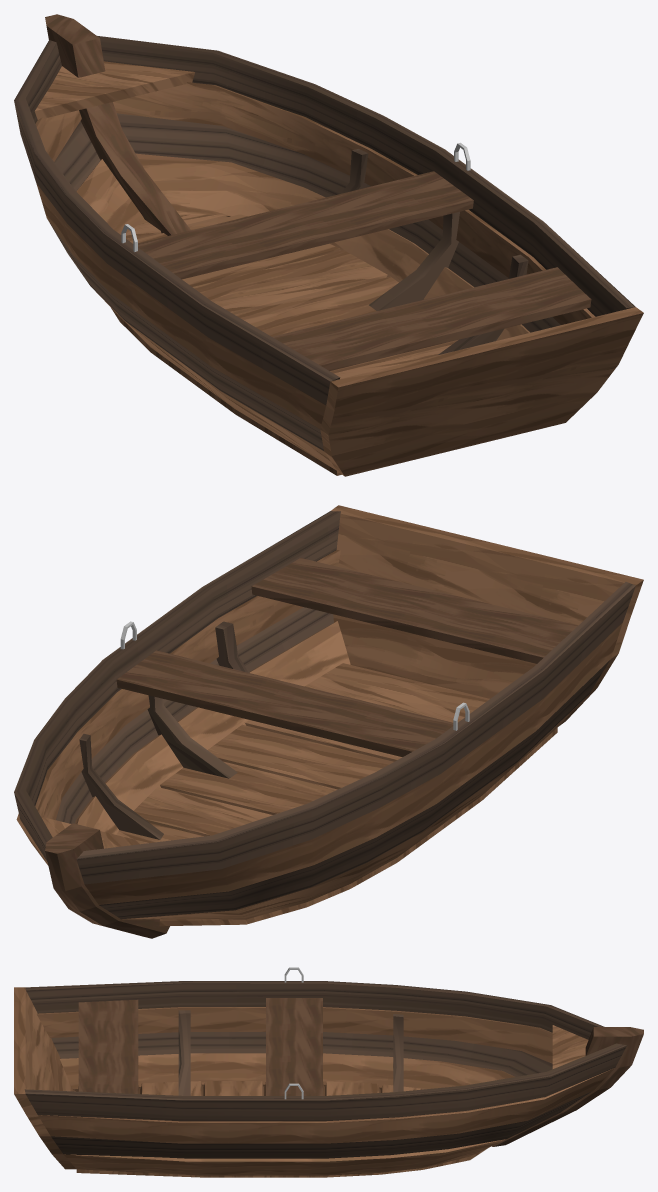
The model's file is Boat.fbx.
3 renders of one model, top to bottom at view 1: azimuth 30°, elevation 25°; view 2: azimuth 150°, elevation 25°; view 3: azimuth 270°, elevation 25°, orthographic. The views are drawn at different scales.
Visible parts, largest first — view 1: _Boat; view 2: _Boat; view 3: _Boat.
Part boxes in pixels (x1=…): _Boat: x1=14, y1=14, x2=643, y2=476; _Boat: x1=14, y1=505, x2=643, y2=938; _Boat: x1=14, y1=967, x2=643, y2=1177.
Bounding box in the file's own units: 199 × 91.53 × 444.
